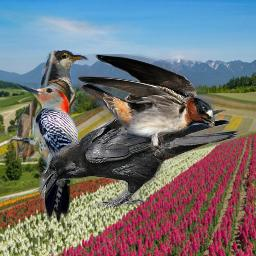Crow: (39, 109, 239, 207)
Cuckoo: (16, 50, 105, 163)
Swallow: (78, 54, 215, 157)
Woodpecker: (7, 85, 78, 223)
